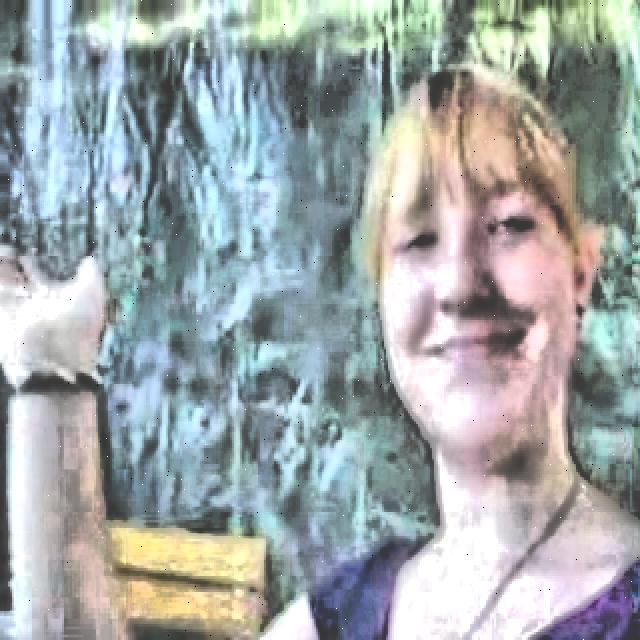T: (5, 59, 636, 634)
